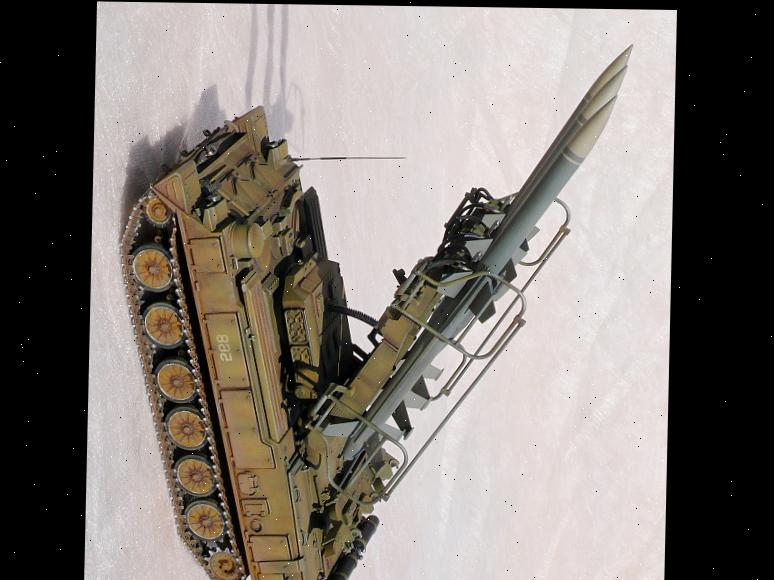armored_car: (106, 26, 638, 580)
